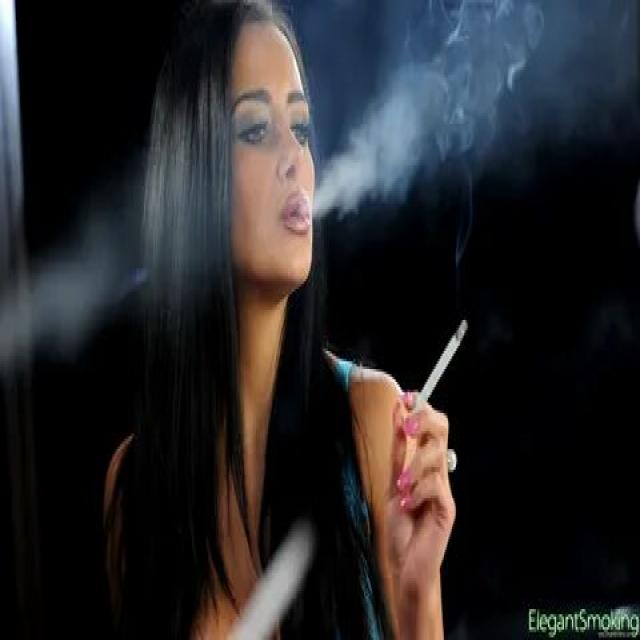cigarette: (412, 312, 471, 403)
